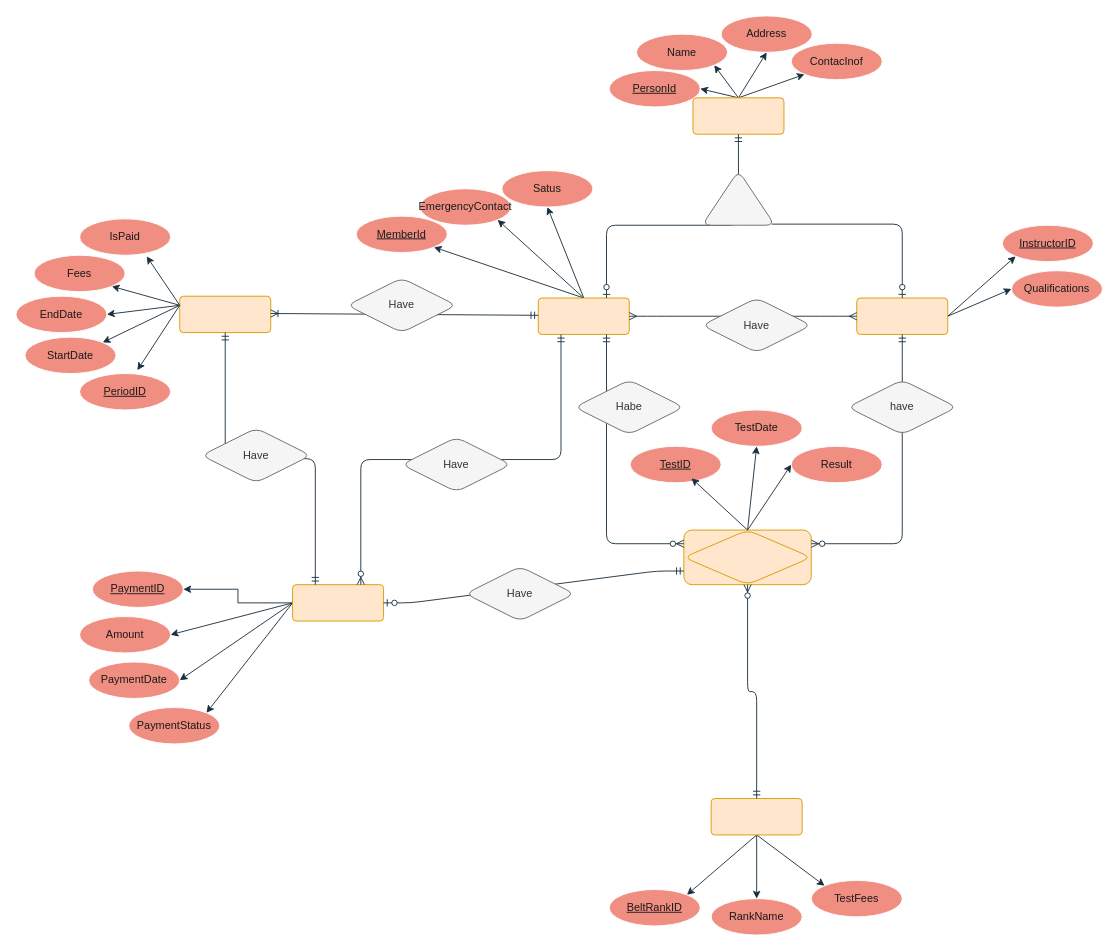
This 1118x951 diagram has some shape labels left out. The shapes that lost their labels are listed below. From the top down, each one's centre as x and y in pixels, then its label:
At (738,115): "Person".
At (225,314): "SubscriptionPeriod".
At (583,315): "Member".
At (902,315): "Instrucor".
At (747,557): "BeltTest".
At (338,602): "Payment".
At (756,816): "BeltRank".
